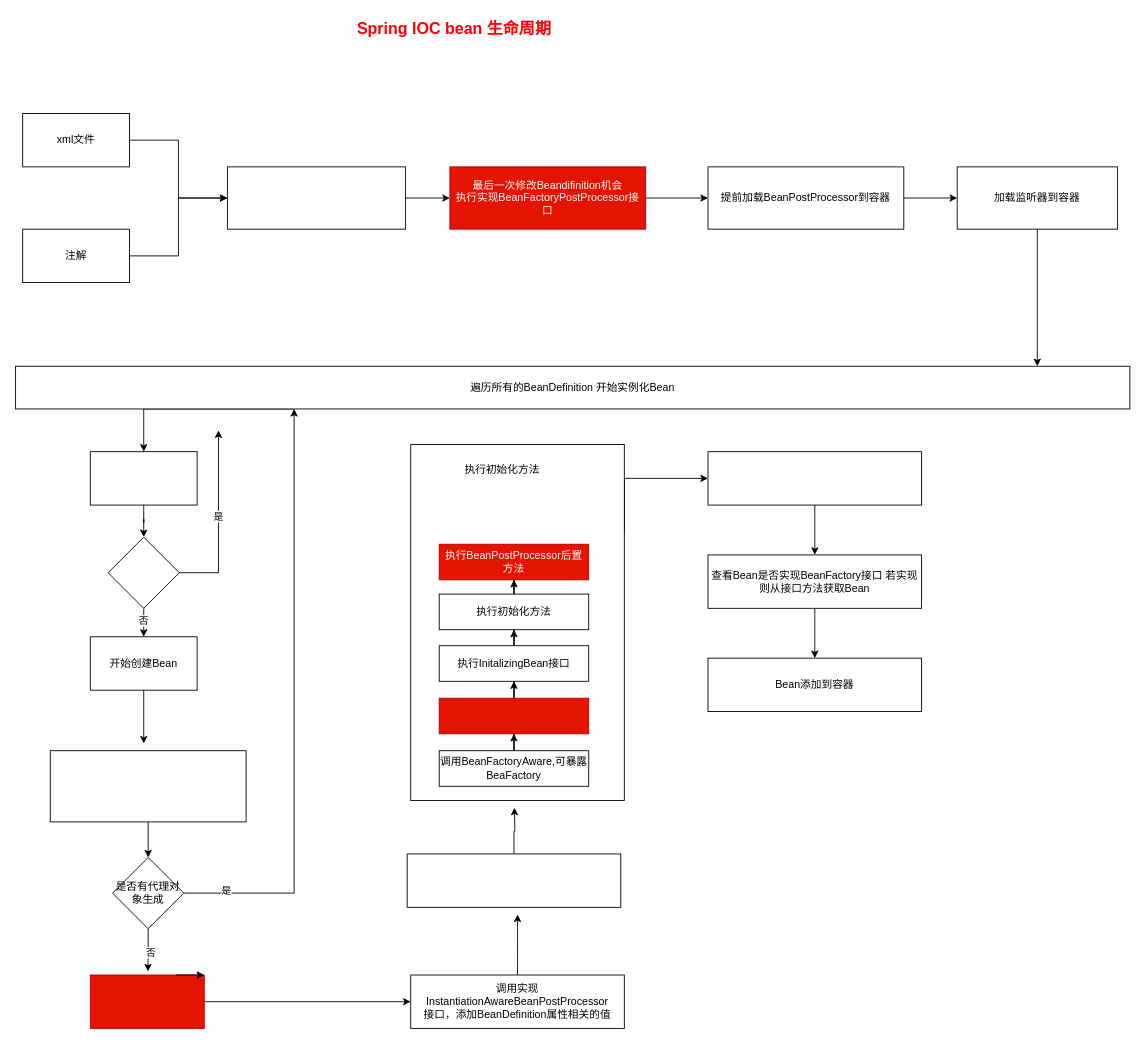
Image size: 1145x1044. Some labels were removed from this diagram. The centre of each missing label's shape, as x and y in pixels:
填充Bean的属性值: point (513, 880)
带销毁方法的Bean多存放一处: point (814, 478)
执行BeanPostProcessor前置方法: point (513, 715)
是否存在: point (143, 572)
查询bean是否存在: point (143, 478)
调用实现InstantiationAwareBeanPostProcessor 接口的（AOP既在此创建代理对象）: point (147, 786)
资源加载器(ResourceLoader) 解析( BeanDefinitionReader): point (316, 197)
通过反射实例化Bean: point (146, 1001)
